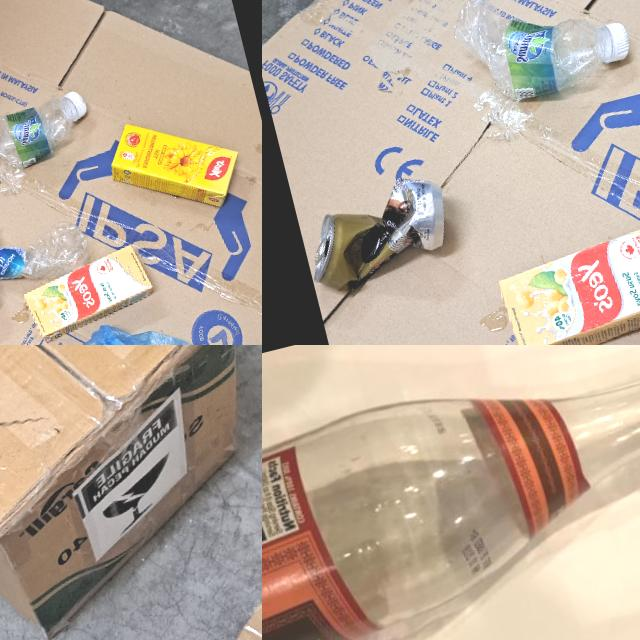caixinha: (489, 206, 640, 345), (100, 100, 250, 231), (18, 242, 158, 344)
garrafa de vidro: (262, 345, 640, 640)
garrafa plástica: (448, 0, 615, 116), (0, 190, 95, 298), (0, 80, 78, 181)
lata: (298, 170, 466, 304)
papelão: (262, 0, 640, 345), (0, 0, 262, 345), (0, 345, 262, 640), (0, 381, 262, 640)
tampa plástica: (604, 12, 634, 58), (64, 89, 90, 122)
